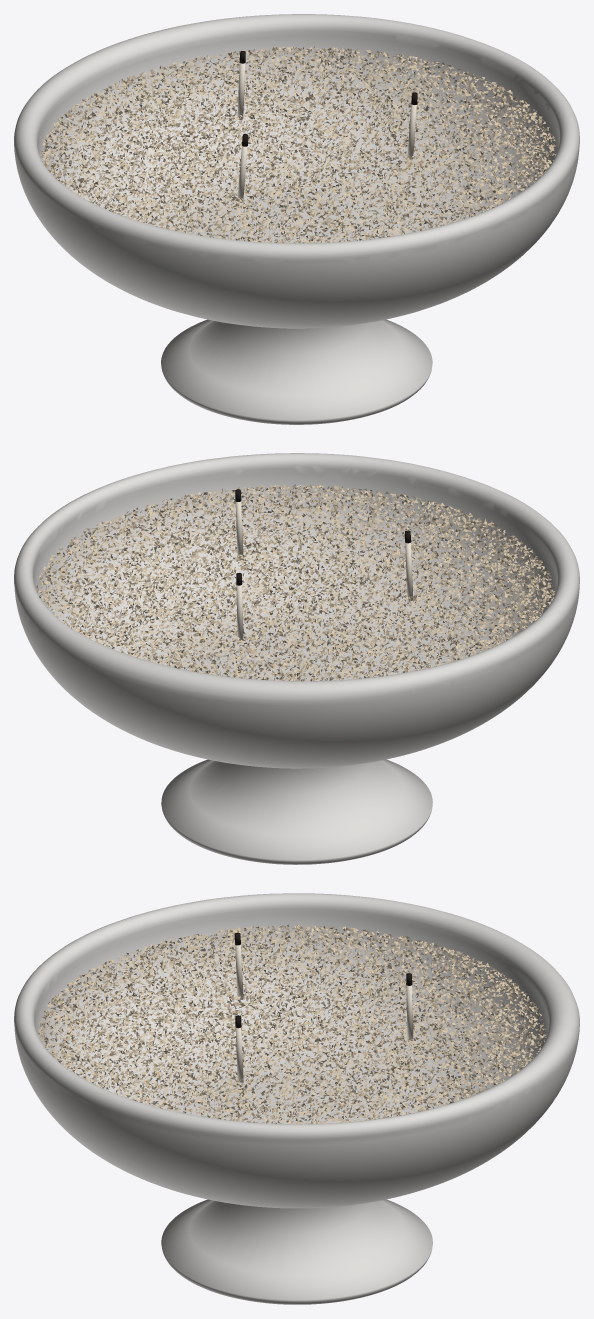
File: fruteira.glb
3 views of the same model, one above another, from view 1: azimuth 30°, elevation 25°; view 2: azimuth 150°, elevation 25°; view 3: azimuth 270°, elevation 25° (orthographic).
Parts seen in each view (by area): view 1: Fruteira, Areia, Pavio0; view 2: Fruteira, Areia, Pavio0; view 3: Fruteira, Areia, Pavio0.
Boxes of the visible parts, bbox=[...] form: Fruteira: bbox=[14, 14, 579, 424]; Areia: bbox=[40, 46, 556, 243]; Pavio0: bbox=[237, 63, 416, 202]; Fruteira: bbox=[14, 453, 579, 864]; Areia: bbox=[36, 484, 555, 681]; Pavio0: bbox=[235, 501, 412, 642]; Fruteira: bbox=[14, 893, 579, 1304]; Areia: bbox=[37, 924, 546, 1124]; Pavio0: bbox=[235, 944, 413, 1082].
Size of the model in its own units: 0.2002 by 0.108 by 0.2001.
